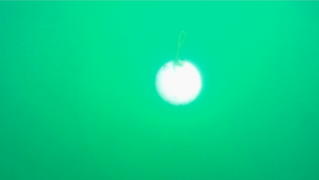buoy: (155, 60, 201, 105)
